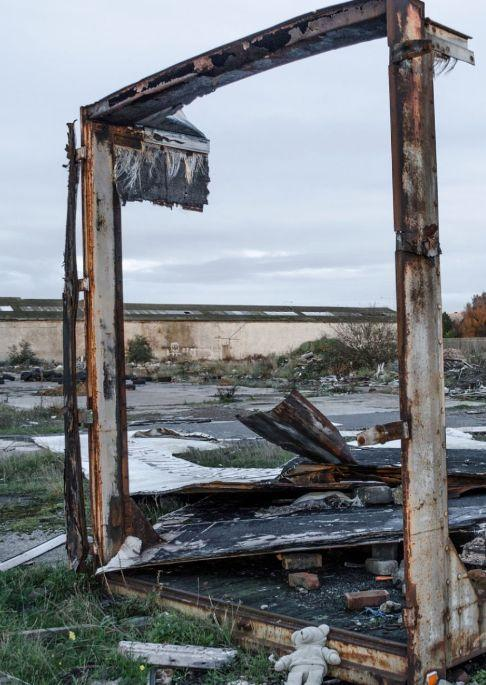metal: (60, 13, 468, 661)
